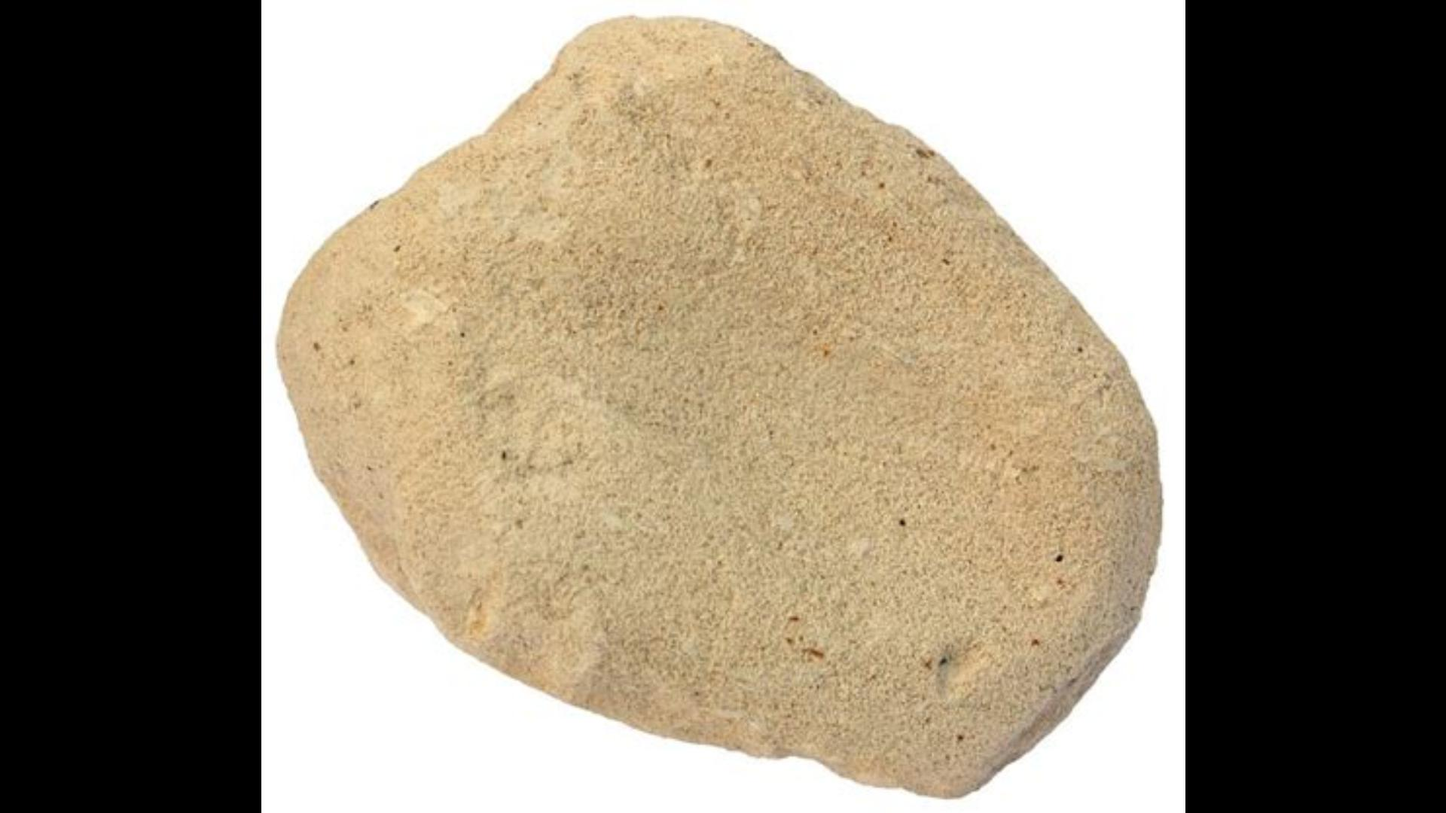rock: (278, 25, 1160, 792)
